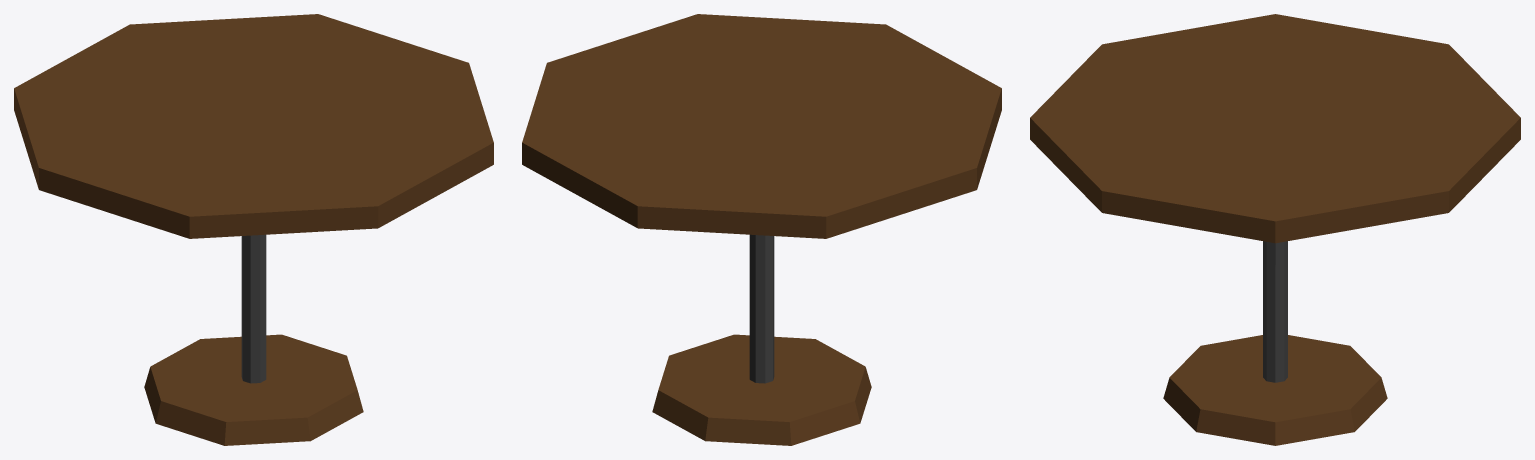
The model's file is RoundTable.fbx.
The picture shows the model from 3 angles, left to right: view 1: azimuth 30°, elevation 25°; view 2: azimuth 150°, elevation 25°; view 3: azimuth 270°, elevation 25°; orthographic projection.
Visible parts, largest first — view 1: Cylinder.002, Cylinder, Cylinder.001; view 2: Cylinder.002, Cylinder, Cylinder.001; view 3: Cylinder.002, Cylinder, Cylinder.001.
Boxes of the visible parts, x1,y1,x2,y2 form: Cylinder.002: (14, 14, 493, 238); Cylinder: (144, 334, 363, 445); Cylinder.001: (241, 234, 266, 383); Cylinder.002: (522, 14, 1001, 238); Cylinder: (652, 334, 871, 445); Cylinder.001: (749, 234, 774, 383); Cylinder.002: (1030, 14, 1520, 243); Cylinder: (1163, 335, 1387, 445); Cylinder.001: (1263, 241, 1287, 382).
Size of the model in its own units: 200 by 126 by 200.
